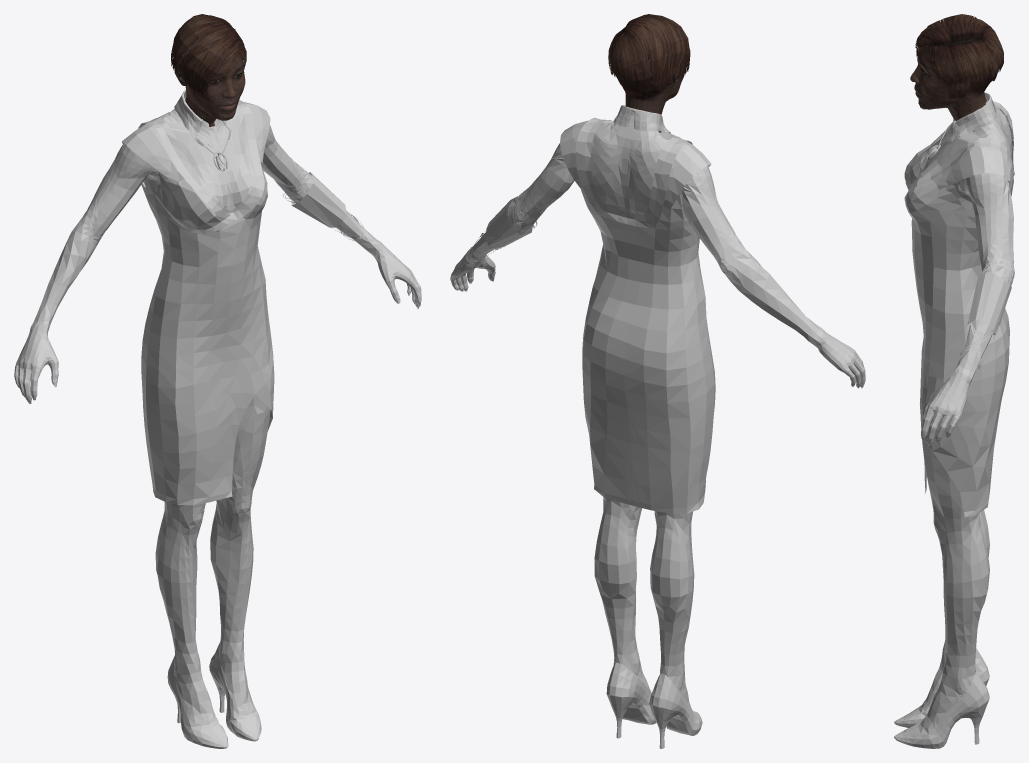
The model's file is scylla_2064.obj.
3 views of the same model, side by side, from view 1: azimuth 30°, elevation 25°; view 2: azimuth 150°, elevation 25°; view 3: azimuth 270°, elevation 25° (orthographic).
Visible parts, largest first — view 1: 2e1bf260_obj, 2e4e8960_obj, 2e2fab00_obj; view 2: 2e1bf260_obj, 2e4e8960_obj, 2e2fab00_obj; view 3: 2e1bf260_obj, 2e4e8960_obj, 2e2fab00_obj.
Part boxes in pixels (x1,y1,x2,y2): 2e1bf260_obj: [14, 90, 421, 748]; 2e4e8960_obj: [171, 14, 246, 96]; 2e2fab00_obj: [174, 48, 245, 126]; 2e1bf260_obj: [450, 105, 865, 748]; 2e4e8960_obj: [608, 14, 690, 98]; 2e2fab00_obj: [621, 31, 684, 132]; 2e1bf260_obj: [894, 92, 1014, 748]; 2e4e8960_obj: [915, 14, 1003, 98]; 2e2fab00_obj: [910, 37, 986, 131].
Bounding box in the file's own units: 3.01 × 5.11 × 0.7818.
